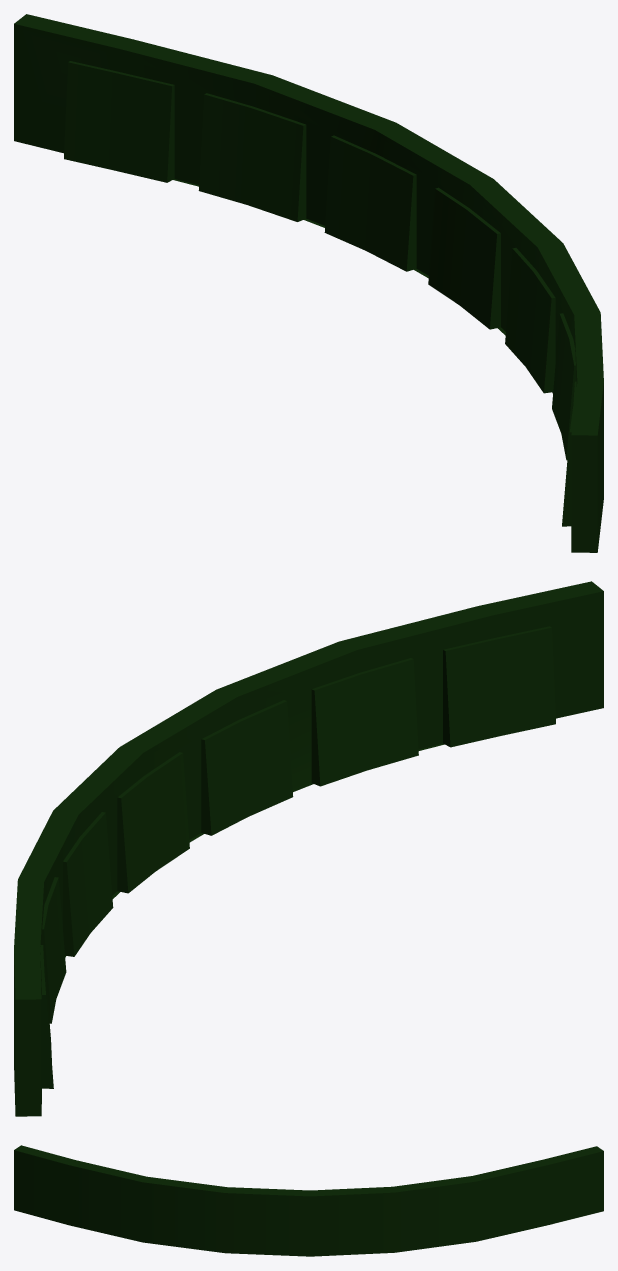
File: curved-wall-base4.fbx
3 renders of one model, top to bottom at view 1: azimuth 30°, elevation 25°; view 2: azimuth 150°, elevation 25°; view 3: azimuth 270°, elevation 25°, orthographic. The views are drawn at different scales.
Parts seen in each view (by area): view 1: curved-wall-base4; view 2: curved-wall-base4; view 3: curved-wall-base4.
Boxes of the visible parts, bbox=[...] form: curved-wall-base4: bbox=[14, 14, 603, 552]; curved-wall-base4: bbox=[14, 581, 603, 1116]; curved-wall-base4: bbox=[14, 1145, 603, 1256].
Bounding box in the file's own units: 5.68 × 3.12 × 27.7.
